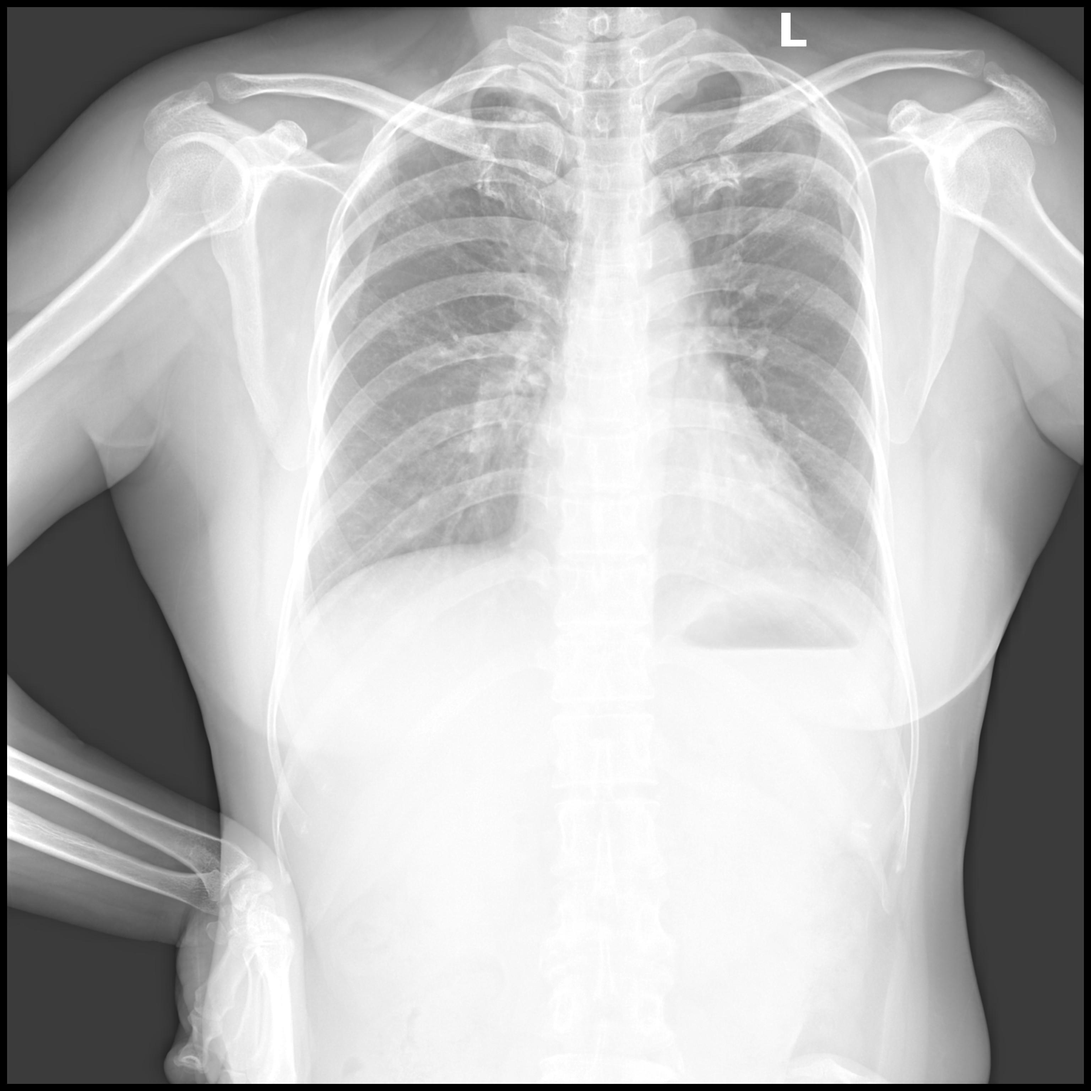Pulmonary fibrosis: (740, 103, 838, 229), (502, 95, 550, 120)
